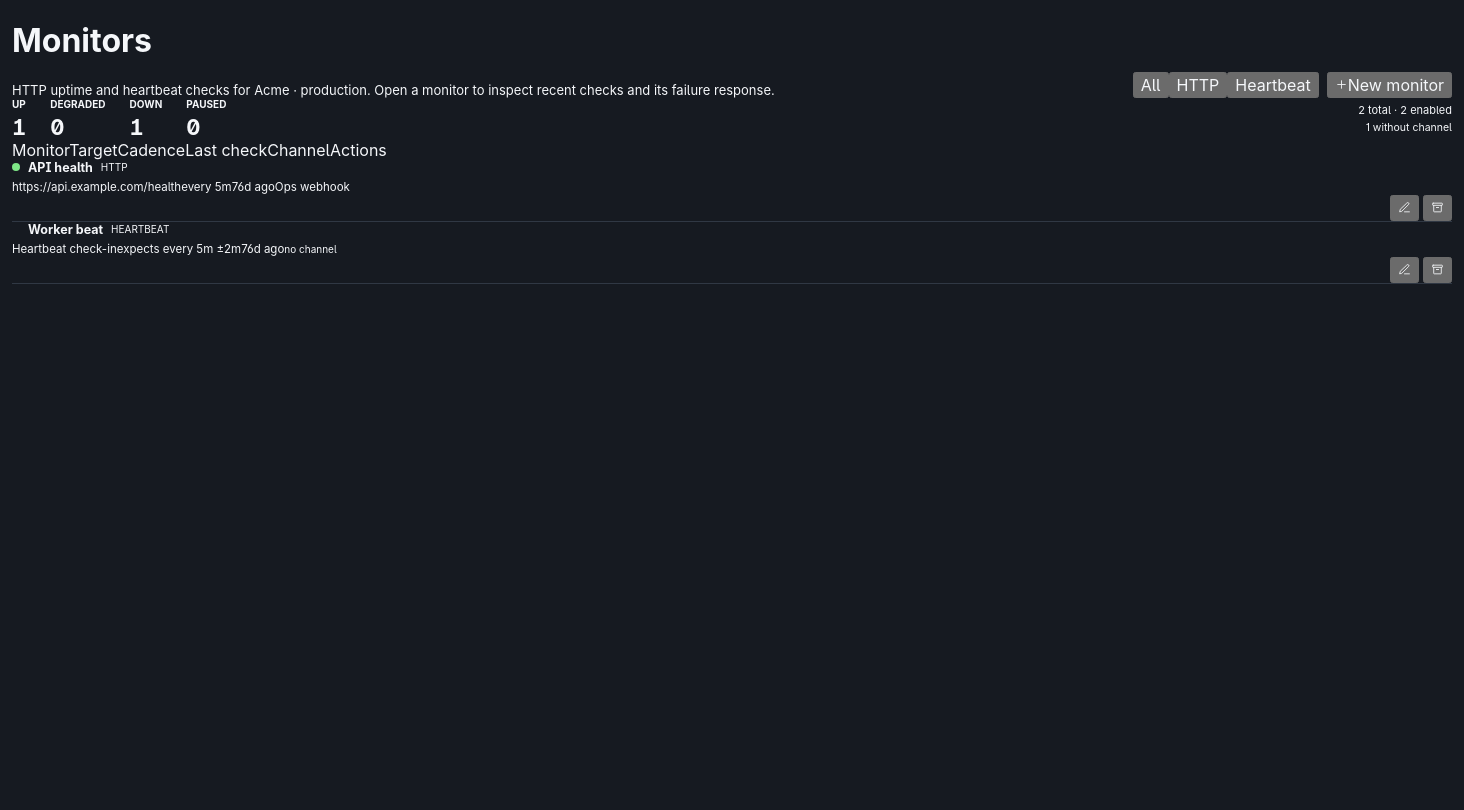
Test: MonitorsScreen — mutations › creates a heartbeat monitor and reveals the one-time secret
The image size is (1464, 810).
Expected: the text "API health" is shown, [28,160,93,175]
Click the button "New monitor" at (1389, 85), box [1327,72,1452,98]
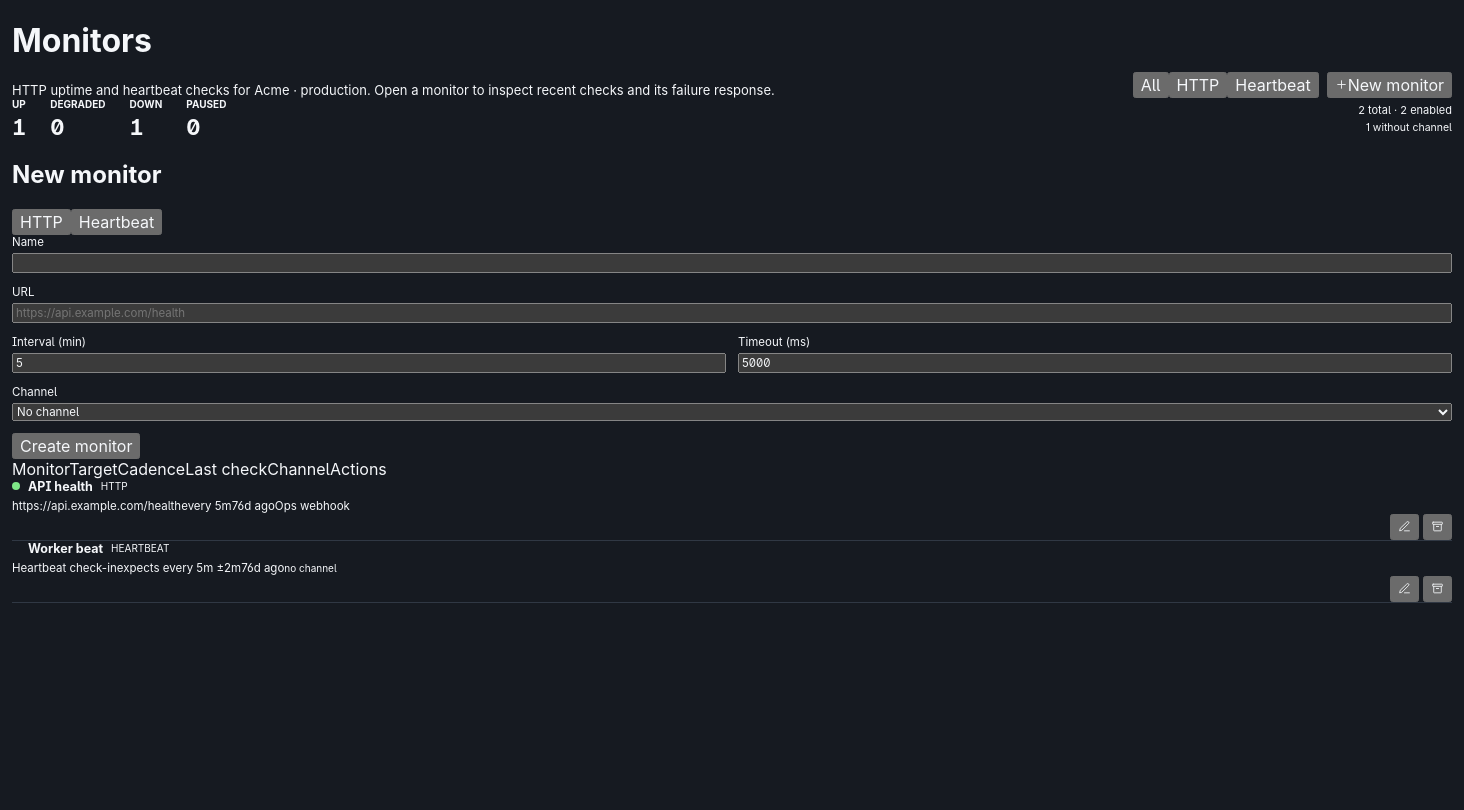
Click the 2nd button "Heartbeat" at (116, 222), box [71,209,162,235]
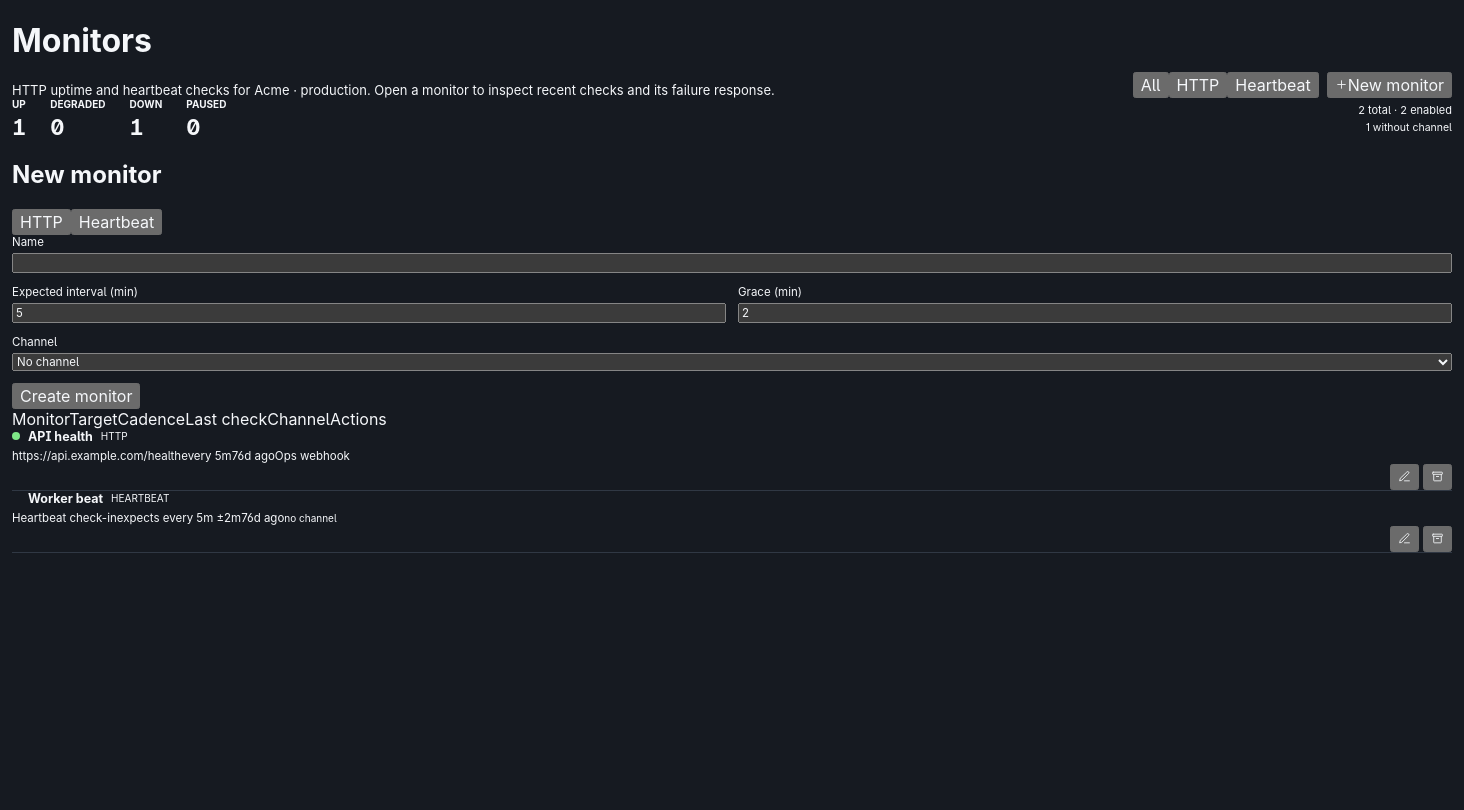
Type "Beat" into the field named "Monitor name" at (732, 263), box [12,253,1452,273]
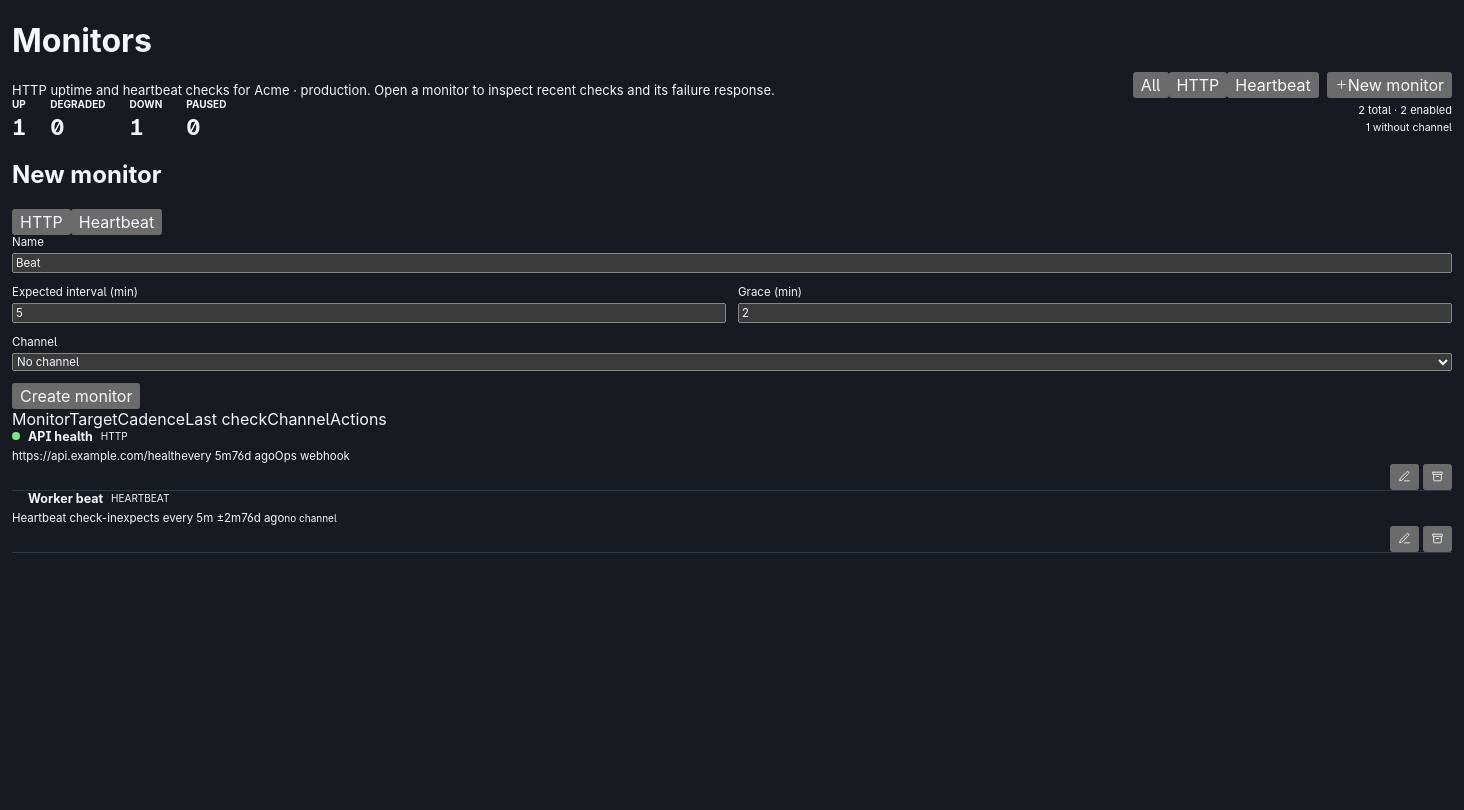
Click the button "Create monitor" at (76, 396), box [12,383,140,409]
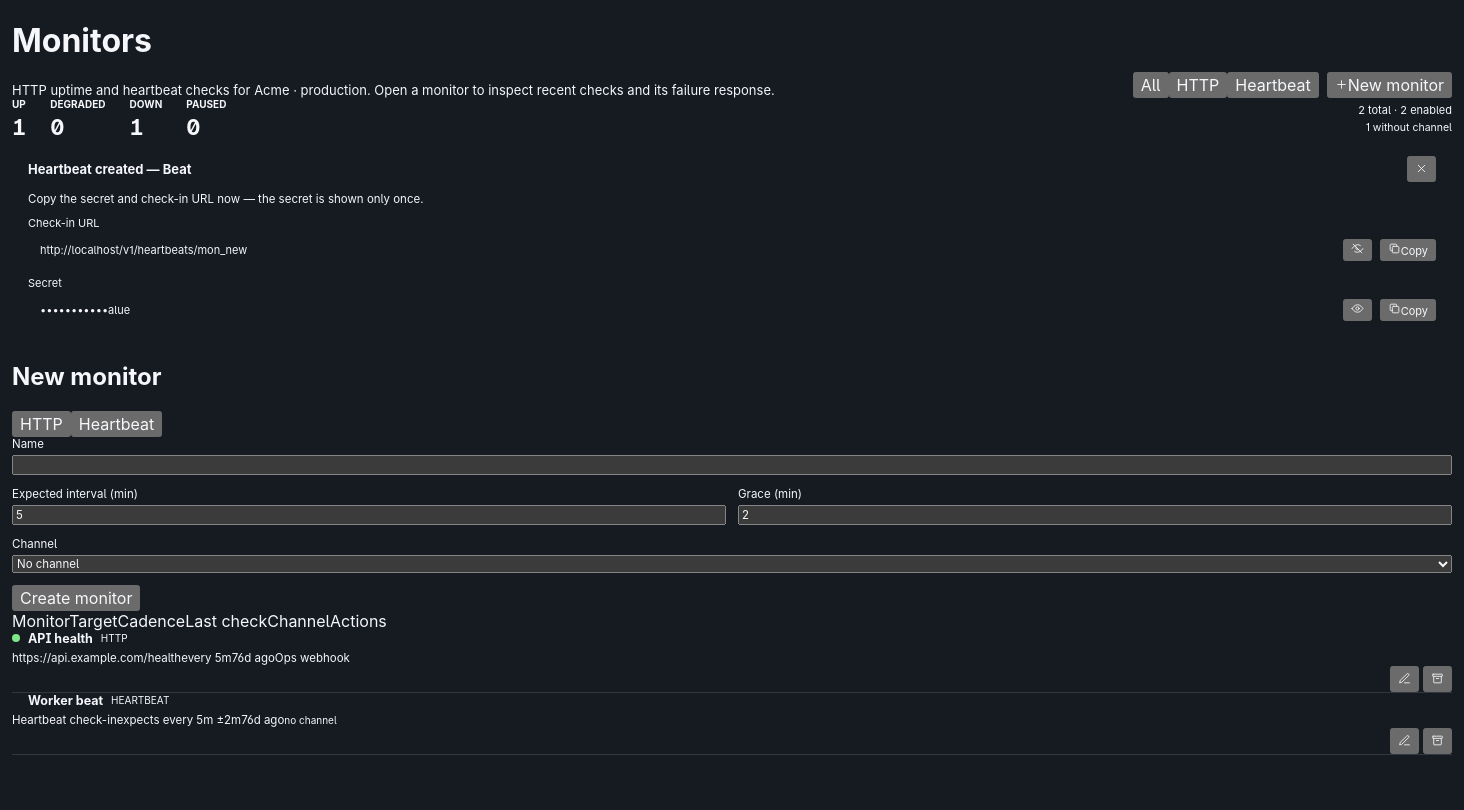
Expected: the text "Heartbeat created — Beat" is shown, [28,161,192,177]
